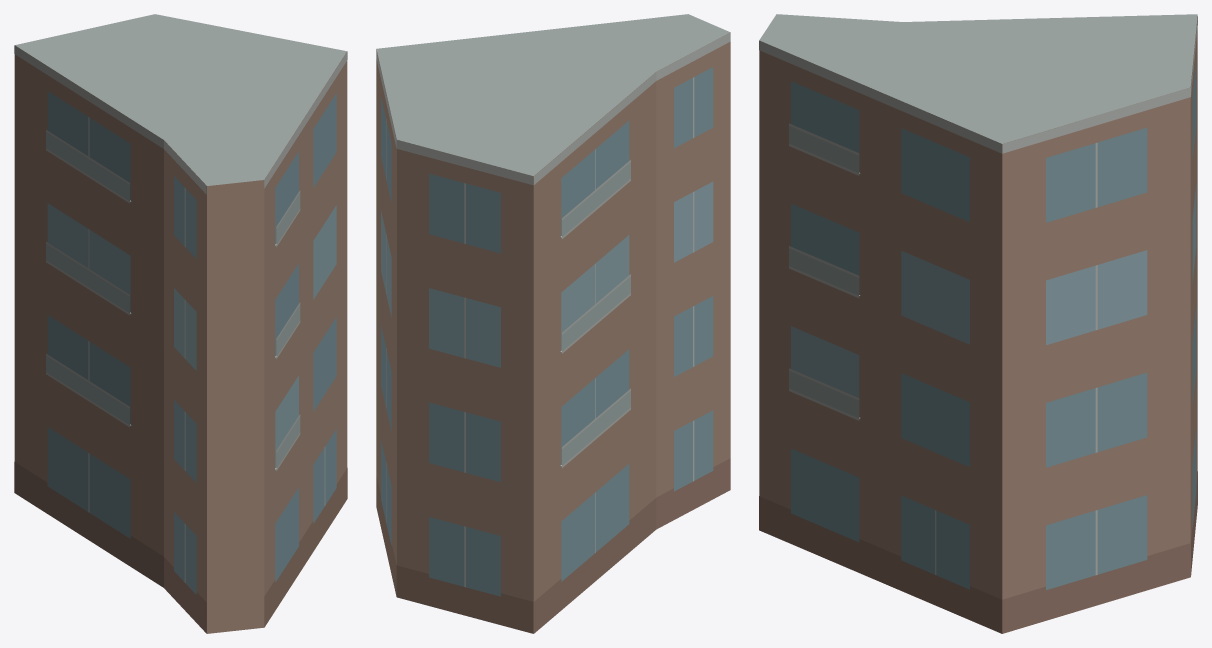
The model's file is survey-upis-32506656.glb.
The picture shows the model from 3 angles, left to right: view 1: azimuth 30°, elevation 25°; view 2: azimuth 150°, elevation 25°; view 3: azimuth 270°, elevation 25°; orthographic projection. The views are drawn at different scales.
Parts seen in each view (by area): view 1: survey-upis-32506656.tmp; view 2: survey-upis-32506656.tmp; view 3: survey-upis-32506656.tmp.
Part boxes in pixels (x1,y1,x2,y2): survey-upis-32506656.tmp: (14, 14, 347, 633); survey-upis-32506656.tmp: (376, 14, 730, 633); survey-upis-32506656.tmp: (759, 14, 1197, 633).
Size of the model in its own units: 6.95 by 12.2 by 9.91.
